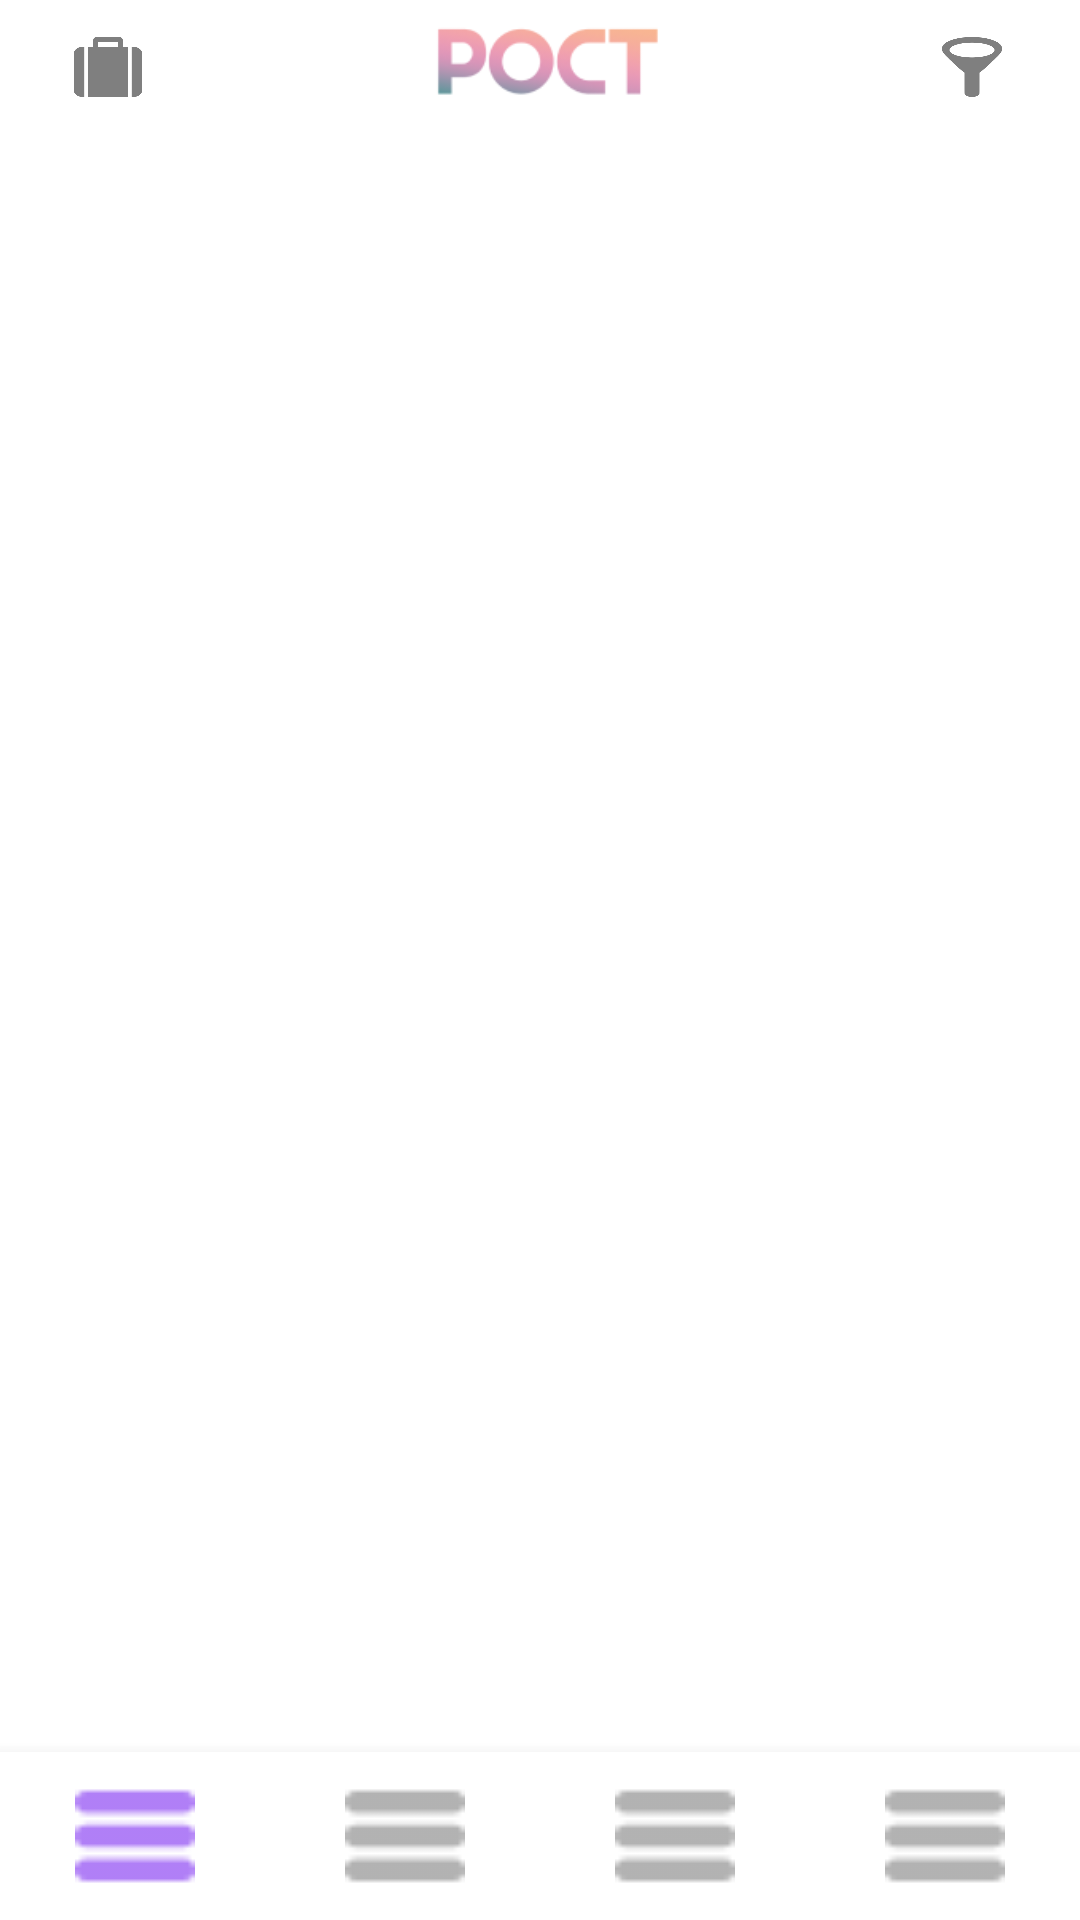

Screen size 1080px×1920px. Icon name, then its center in pixels as (x=x, y=y):
filter: (x=972, y=67)
